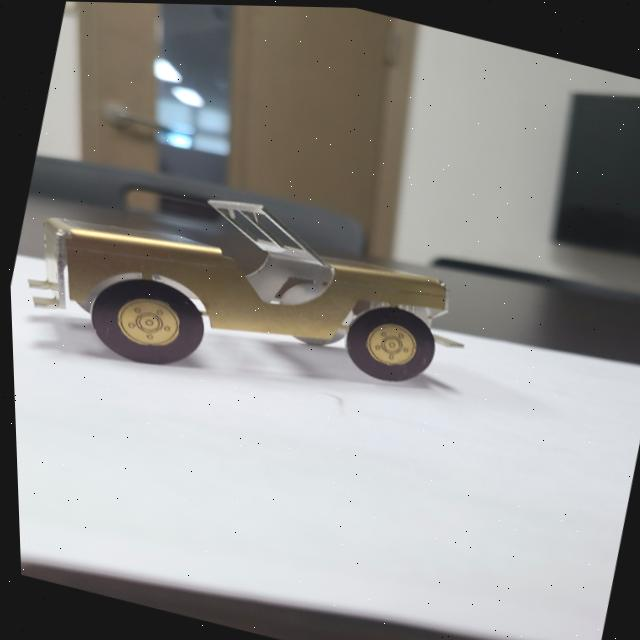tire: (79, 267, 212, 376), (334, 295, 441, 390)
